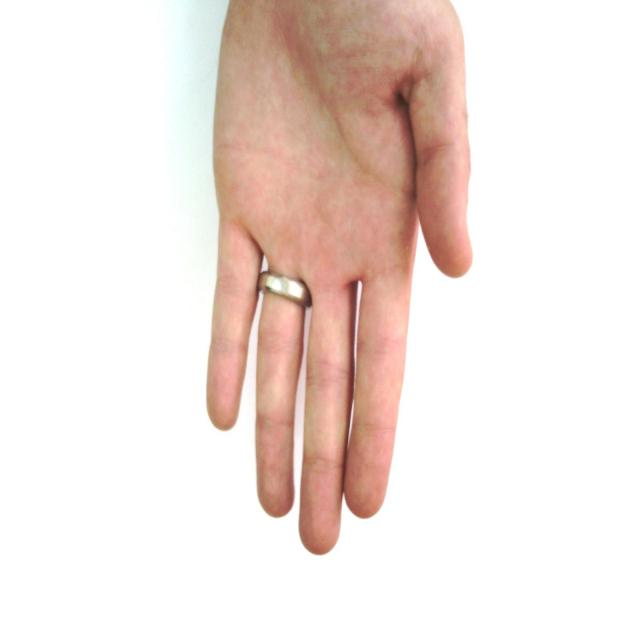others: (158, 0, 540, 551)
